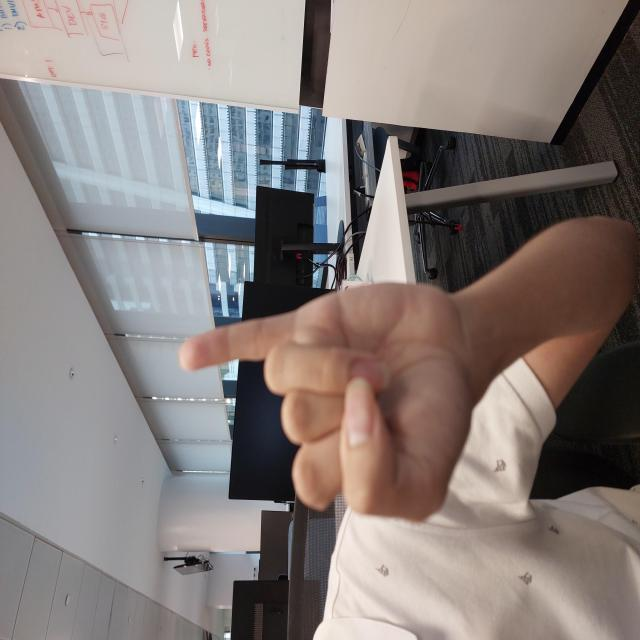I: (115, 174, 361, 477)
